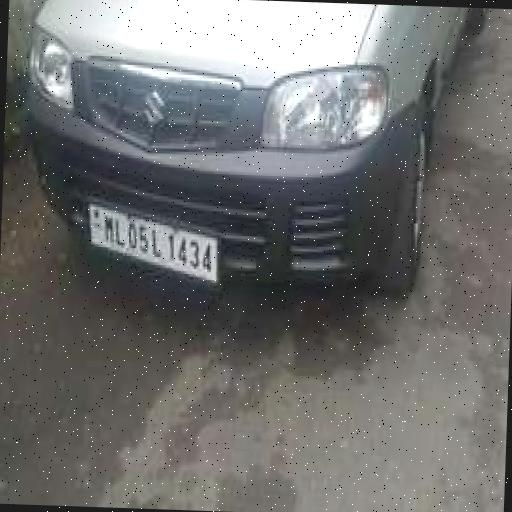license_plate`: (84, 196, 216, 277)
